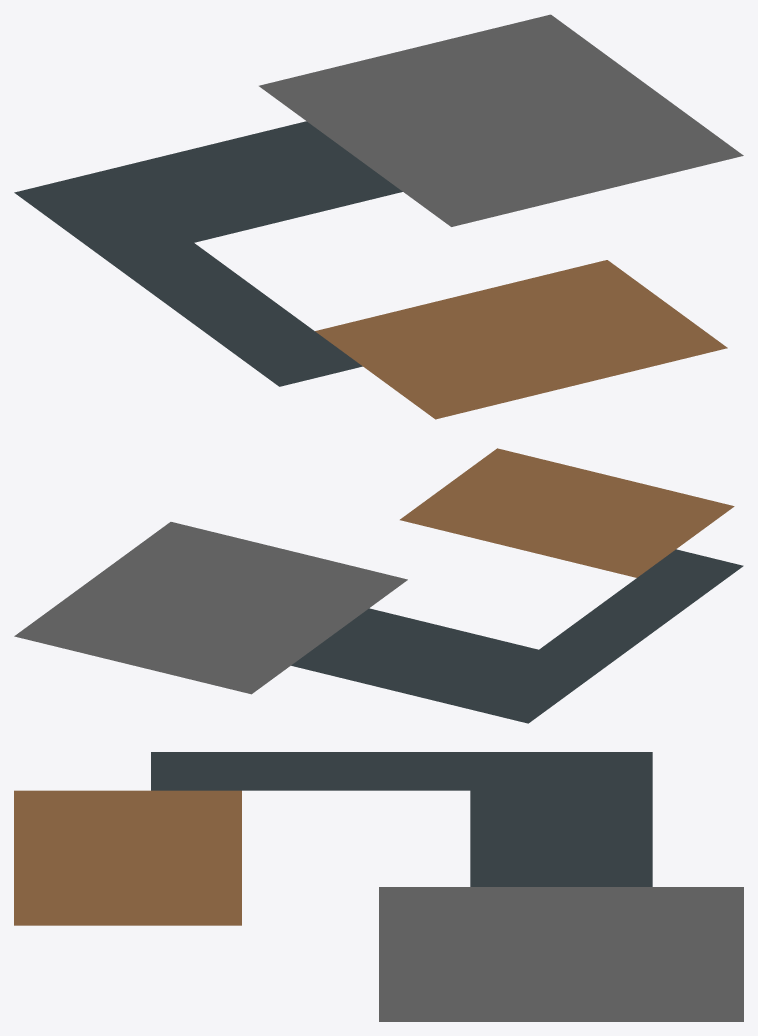
Rendered from SM_Bank_Floor.fbx.
The picture shows the model from 3 angles, top to bottom: view 1: azimuth 30°, elevation 25°; view 2: azimuth 150°, elevation 25°; view 3: azimuth 270°, elevation 25°; orthographic projection. The views are drawn at different scales.
Parts seen in each view (by area): view 1: SM_Bank_Floor; view 2: SM_Bank_Floor; view 3: SM_Bank_Floor.
Boxes of the visible parts, x1,y1,x2,y2 form: SM_Bank_Floor: [14, 14, 743, 419]; SM_Bank_Floor: [14, 448, 743, 723]; SM_Bank_Floor: [14, 752, 743, 1021].
Size of the model in its own units: 21 by 0 by 24.
1 material, 1 textured.
